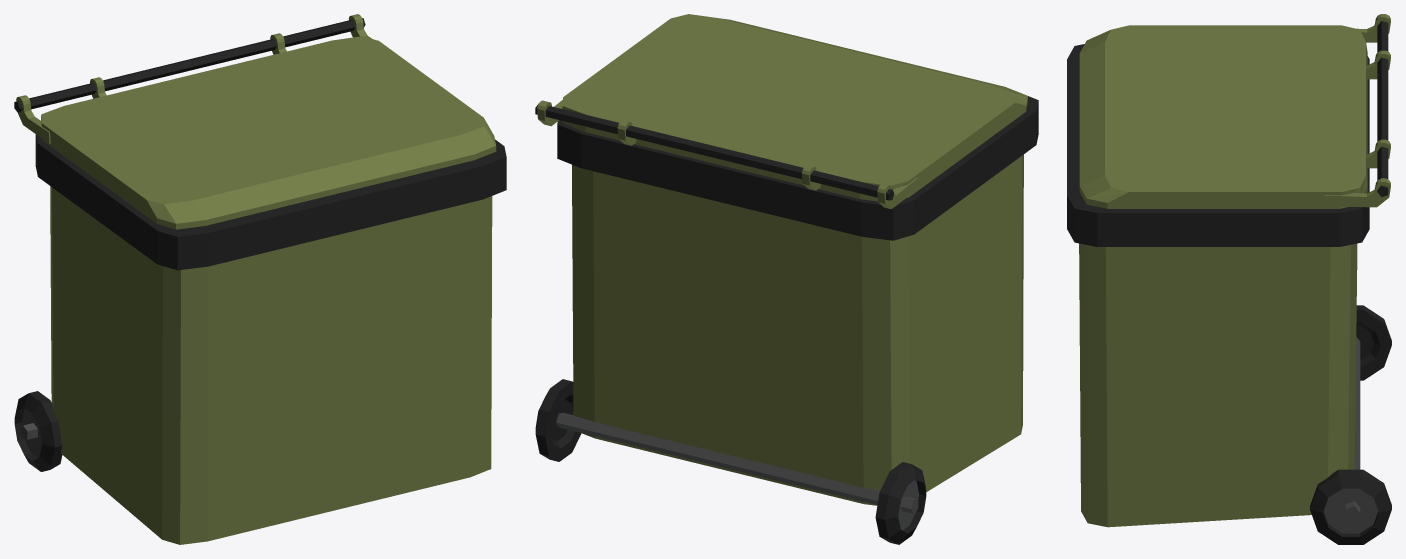
Rendered from SM_garbagecan_04.fbx.
3 views of the same model, side by side, from view 1: azimuth 30°, elevation 25°; view 2: azimuth 150°, elevation 25°; view 3: azimuth 270°, elevation 25° (orthographic). The views are drawn at different scales.
Visible parts, largest first — view 1: Object155; view 2: Object155; view 3: Object155.
Part boxes in pixels (bbox=[...]): Object155: bbox=[14, 14, 506, 544]; Object155: bbox=[535, 14, 1038, 544]; Object155: bbox=[1067, 14, 1391, 544].
Bounding box in the file's own units: 61.85 × 58.5 × 47.52.
